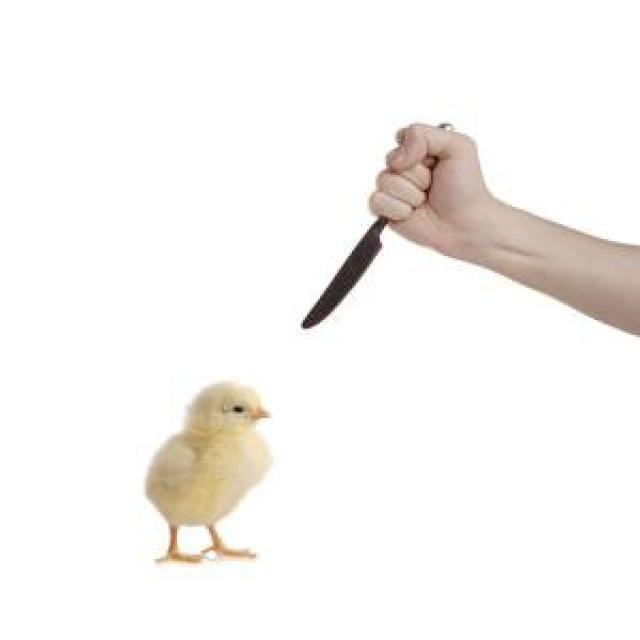knife: (288, 113, 476, 345)
